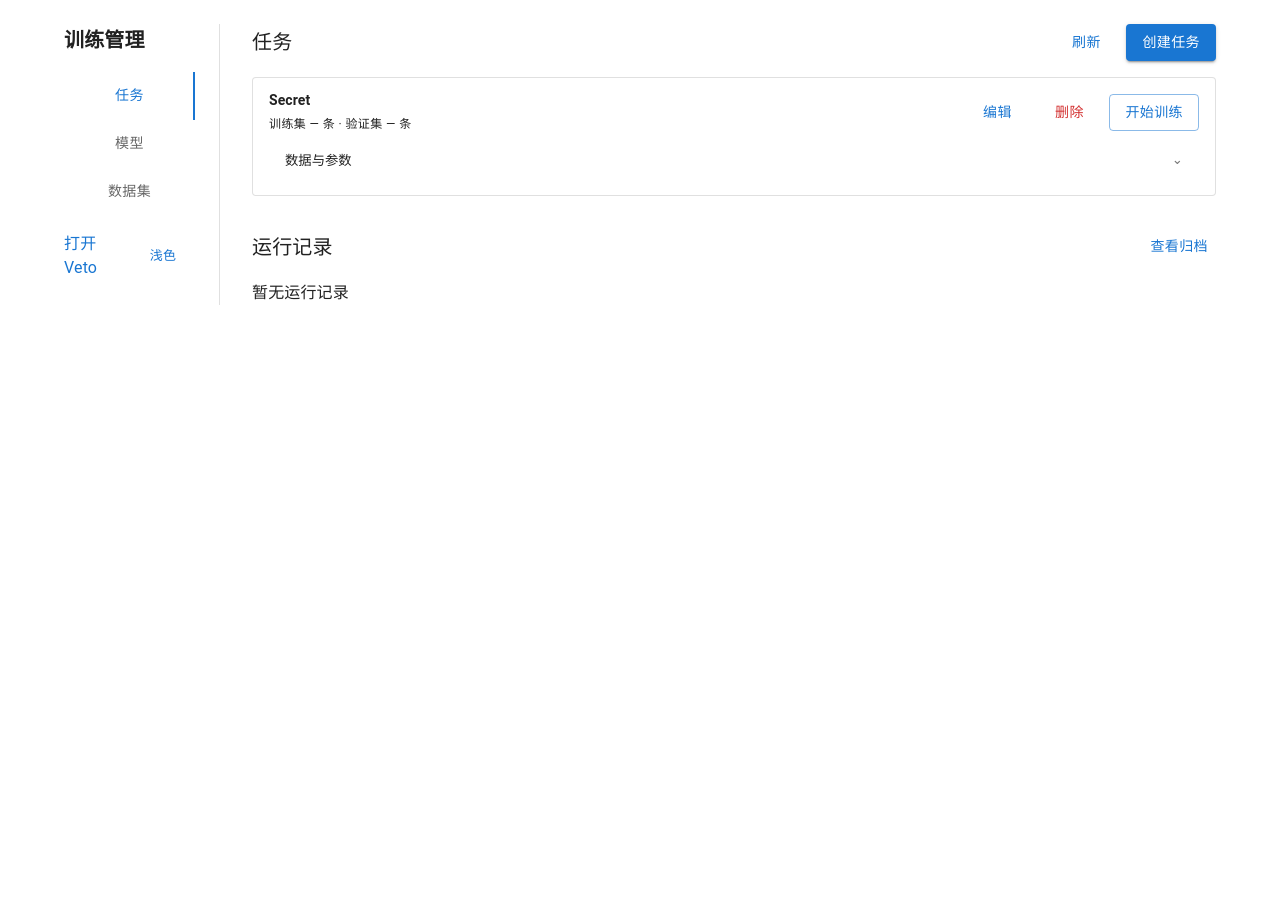
Test: failed operation stays in the confirmation dialog
expect the heading "Secret" is shown: met, box left=269, top=92, right=310, bottom=108
What coordinates should you click on to do the following:
click the button "删除"
I would click on:
 (1069, 112)
Its box is left=1037, top=94, right=1101, bottom=131.
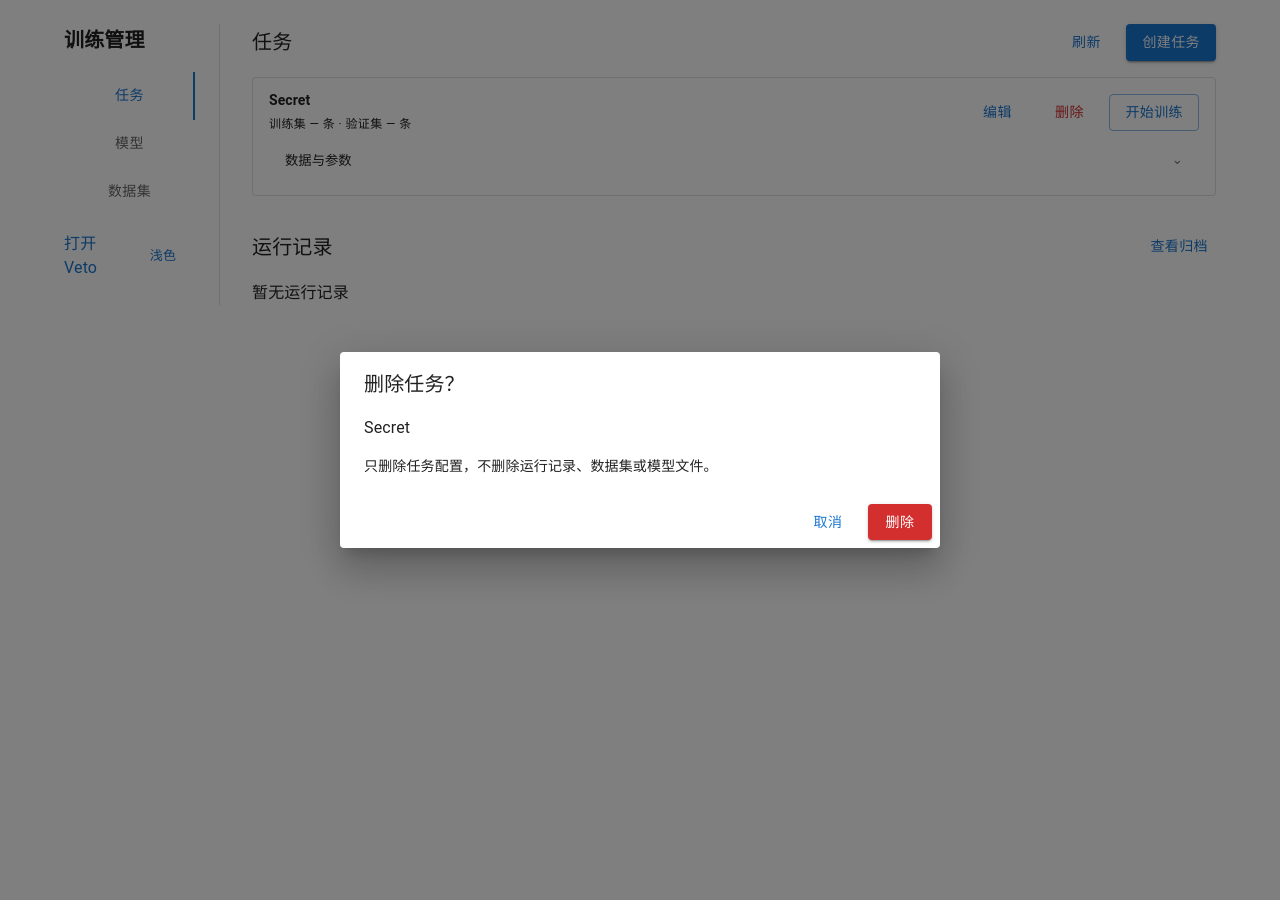
What coordinates should you click on to do the following:
click the button "删除"
I would click on:
 (900, 522)
Its box is left=868, top=504, right=932, bottom=540.
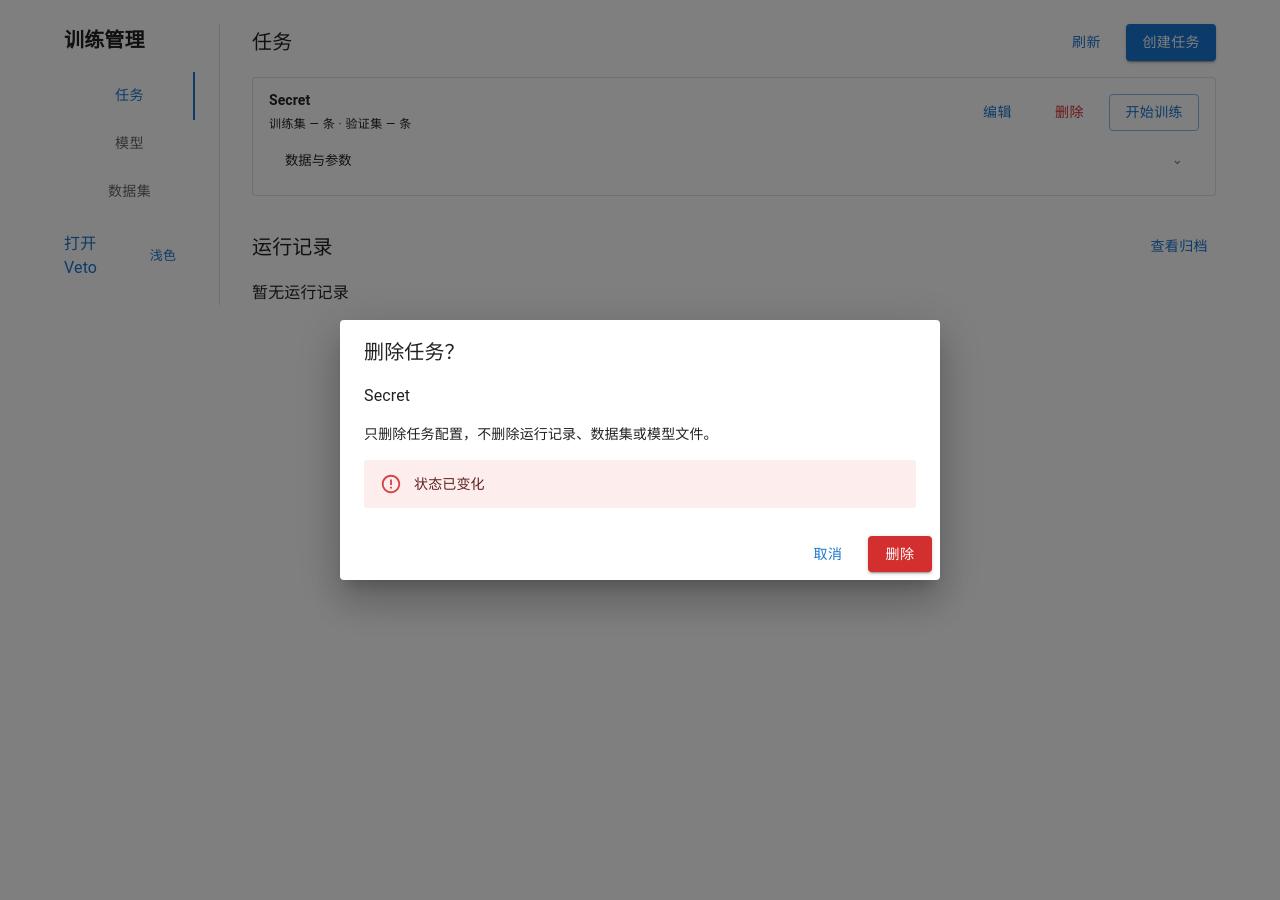
expect the dialog is shown: met, box left=340, top=320, right=940, bottom=580
expect the text "状态已变化" is shown: met, box left=414, top=476, right=485, bottom=492
